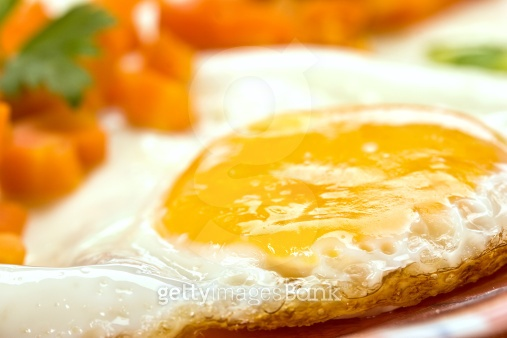fried egg: (126, 96, 504, 323)
